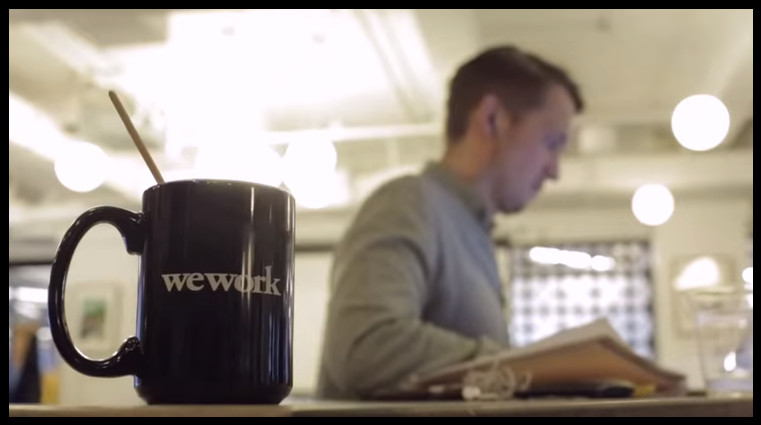wework: (157, 262, 284, 298)
